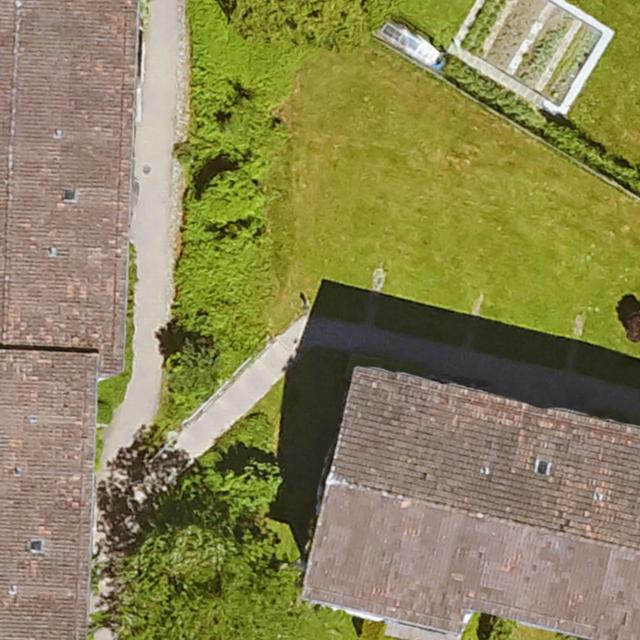tree: (96, 520, 302, 640), (225, 0, 374, 55), (217, 454, 285, 519), (193, 167, 263, 229), (158, 341, 228, 391), (620, 306, 640, 344)
